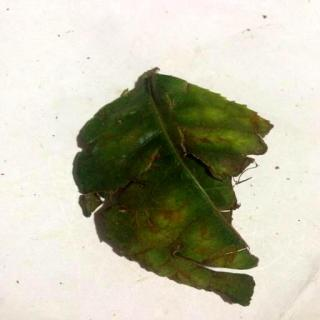Red Leaf Spot: (72, 75, 274, 309)
